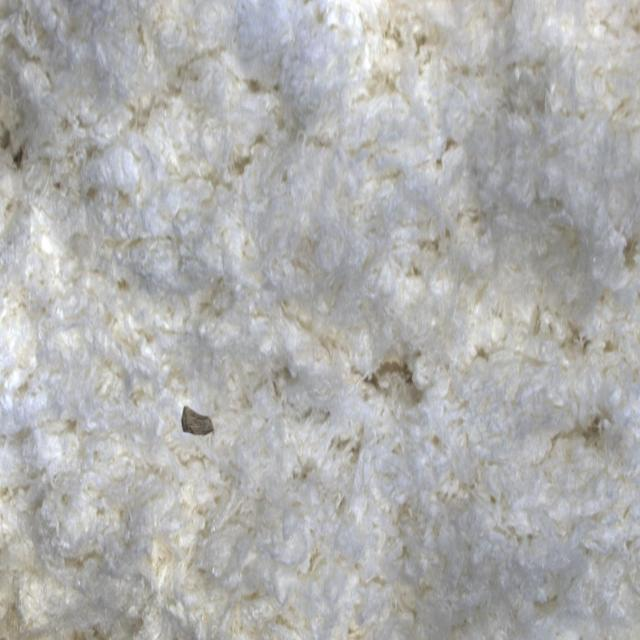dust: (159, 365, 233, 467)
